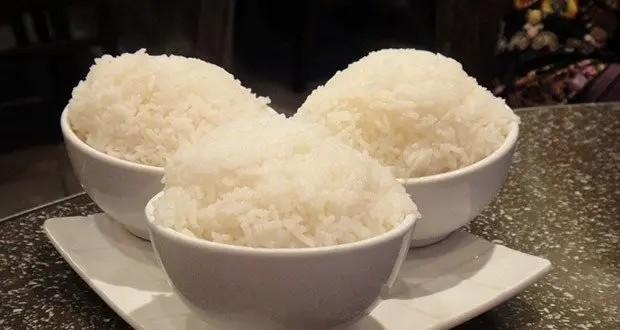WhiteRice: (152, 112, 415, 247), (289, 47, 522, 179), (65, 47, 287, 171)
